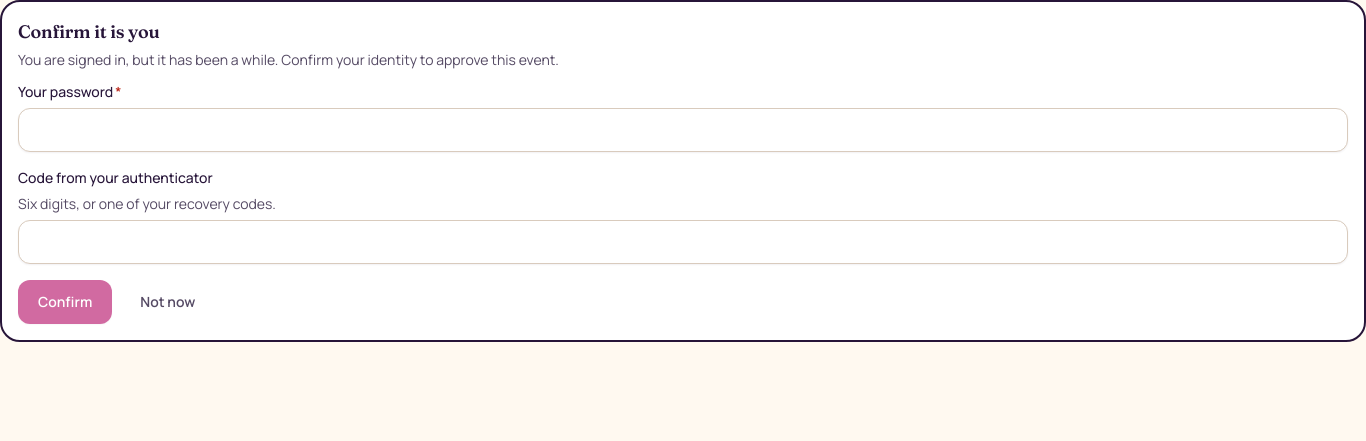
Test: the step-up prompt › moves focus to the refusal when the service does not answer
The width and height of the screenshot is (1366, 441).
Type "correct horse" into the password field labelled "Your password*" at (683, 130), box [18,108,1348,152]
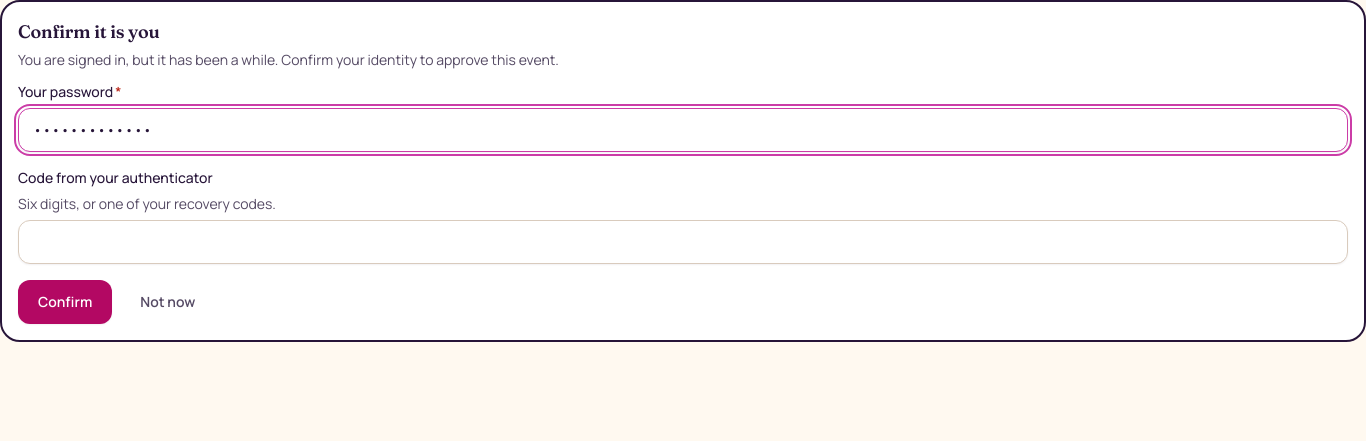
Click the button "Confirm" at (65, 302), box [18,280,112,324]
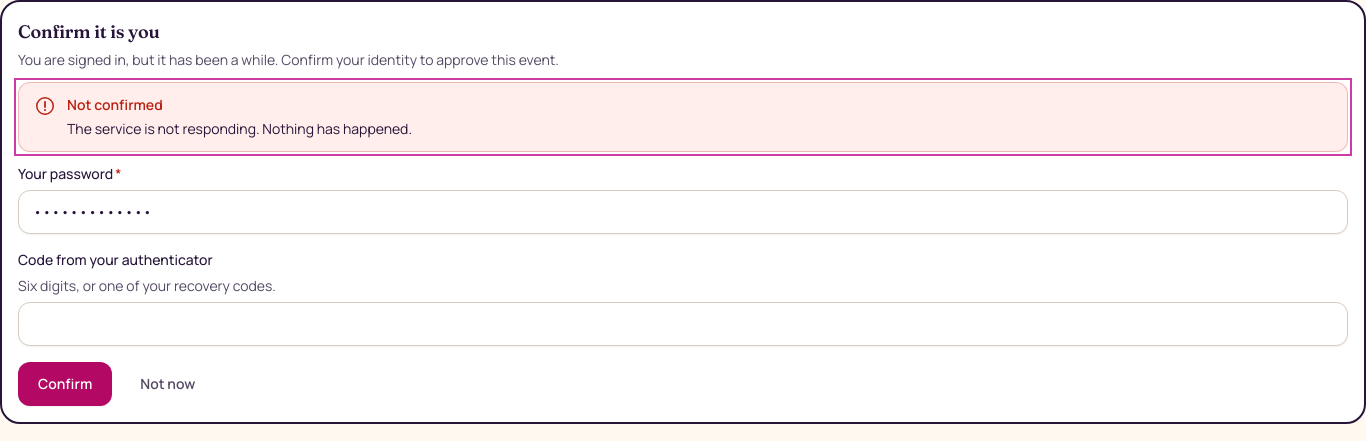
Now the text "The service is not responding" is shown, box [67,119,412,138]
